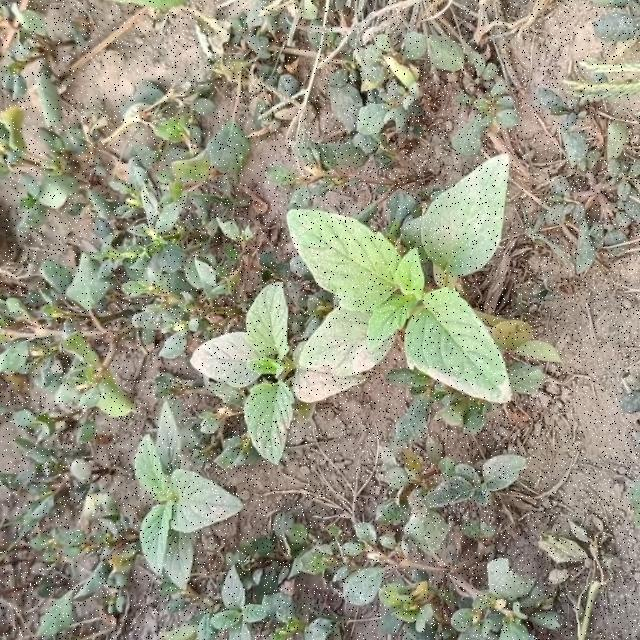plant: (192, 156, 510, 462), (135, 405, 242, 587)
